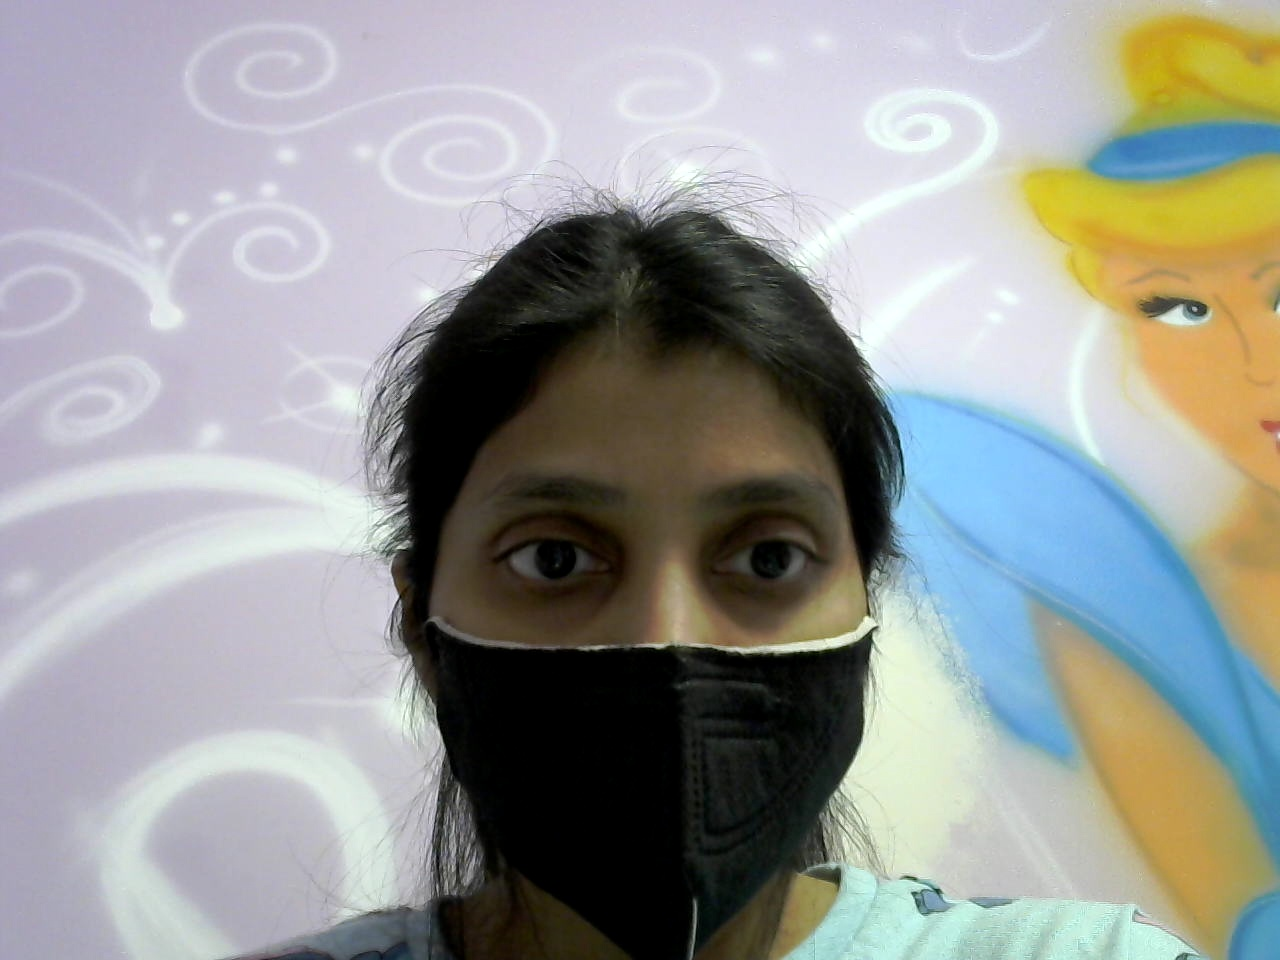mask: (375, 607, 893, 960)
